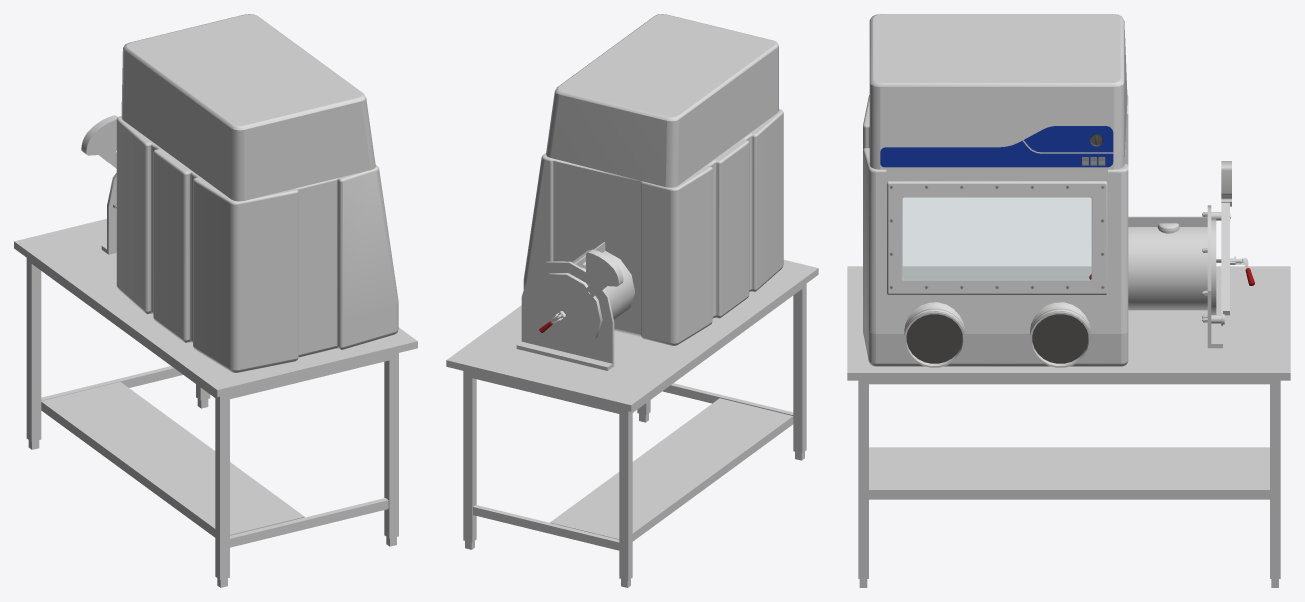
Rendered from a_machine.glb.
The picture shows the model from 3 angles, left to right: view 1: azimuth 30°, elevation 25°; view 2: azimuth 150°, elevation 25°; view 3: azimuth 270°, elevation 25°; orthographic projection. The views are drawn at different scales.
Parts seen in each view (by area): view 1: Component#59, Component#11, Component#4, Component#6, Component#1 (×3), Component#3 (×2), Component#53, Component#8, Component#51, Component#5; view 2: Component#59, Component#11, Component#6, Component#4, Component#51, Component#1 (×3), Component#3 (×2), Component#53, Component#10, Component#5; view 3: Component#59, Component#11, Component#6, Component#4, Component#51, Component#63 (×2), Component#1 (×2), Component#9, Component#53.
Boxes of the visible parts, x1,y1,x2,y2 form: Component#59: (116, 116, 398, 372); Component#11: (121, 14, 375, 201); Component#4: (41, 382, 304, 537); Component#6: (14, 219, 417, 396); Component#1 (×3): (26, 260, 398, 587); Component#3 (×2): (41, 366, 388, 547); Component#53: (81, 115, 117, 168); Component#8: (228, 353, 398, 399); Component#51: (101, 173, 116, 254); Component#5: (26, 258, 228, 401); Component#59: (523, 109, 783, 345); Component#11: (546, 14, 778, 187); Component#6: (446, 259, 818, 411); Component#4: (550, 398, 793, 541); Component#51: (516, 242, 635, 370); Component#1 (×3): (463, 286, 806, 587); Component#3 (×2): (473, 383, 793, 550); Component#53: (530, 249, 623, 342); Component#10: (463, 371, 620, 414); Component#5: (620, 283, 806, 415); Component#59: (863, 95, 1128, 366); Component#11: (869, 14, 1127, 169); Component#6: (847, 266, 1290, 380); Component#4: (869, 447, 1269, 499); Component#51: (1128, 205, 1224, 348); Component#63 (×2): (904, 302, 1090, 367); Component#1 (×2): (858, 384, 1280, 587); Component#9: (859, 380, 1280, 384); Component#53: (1221, 161, 1231, 326).
Bounding box in the file's own units: 0.8828 × 1.86 × 1.52.
